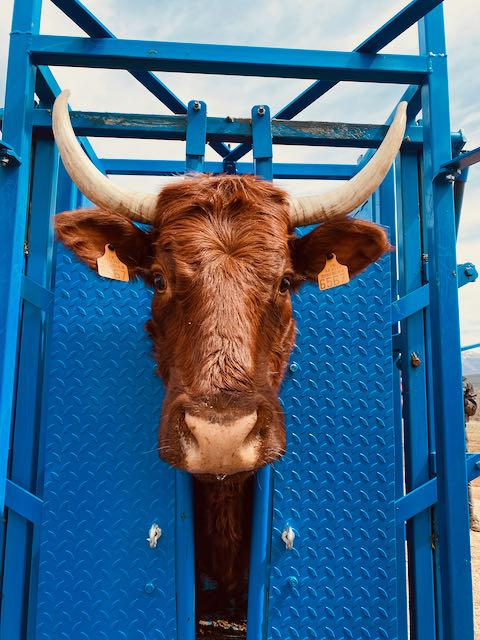muzzles: (157, 403, 285, 476)
